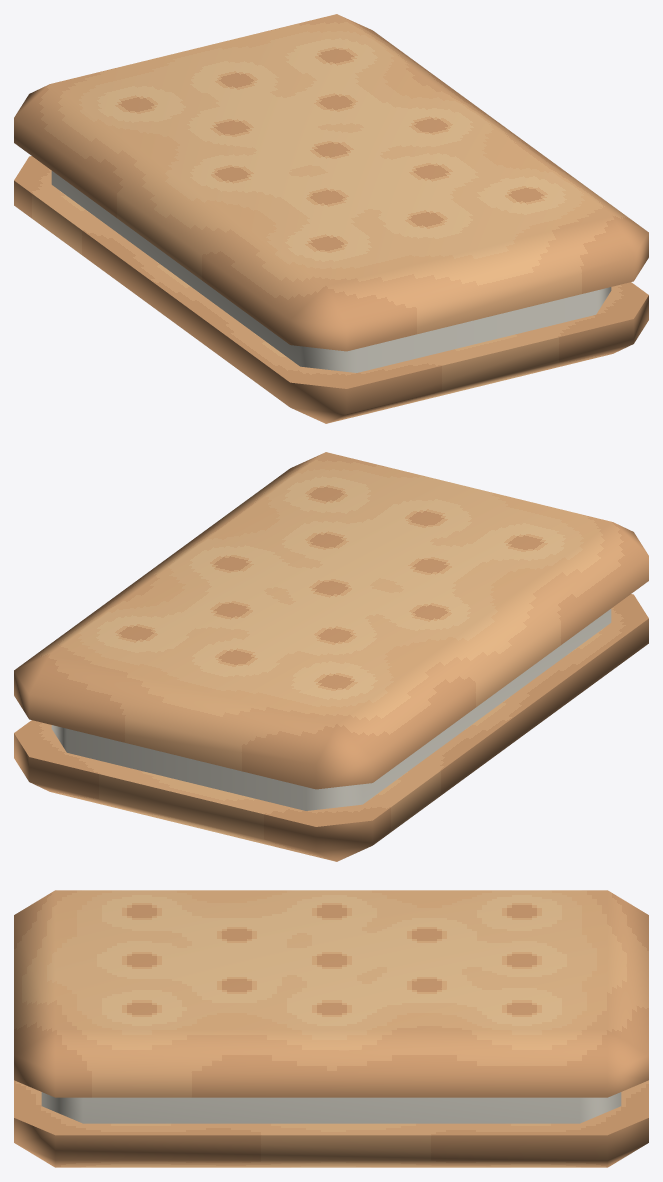
Rendered from 03ee_Cookie_Sandwich.glb.
The picture shows the model from 3 angles, top to bottom: view 1: azimuth 30°, elevation 25°; view 2: azimuth 150°, elevation 25°; view 3: azimuth 270°, elevation 25°; orthographic projection.
Parts seen in each view (by area): view 1: part_0; view 2: part_0; view 3: part_0.
Part boxes in pixels (left/top/right/bottom): part_0: left=14, top=14, right=648, bottom=423; part_0: left=14, top=452, right=648, bottom=861; part_0: left=14, top=890, right=648, bottom=1167.
Size of the model in its own units: 0.03 by 0.011 by 0.046.
Materials: 1 (1 with a texture image).
